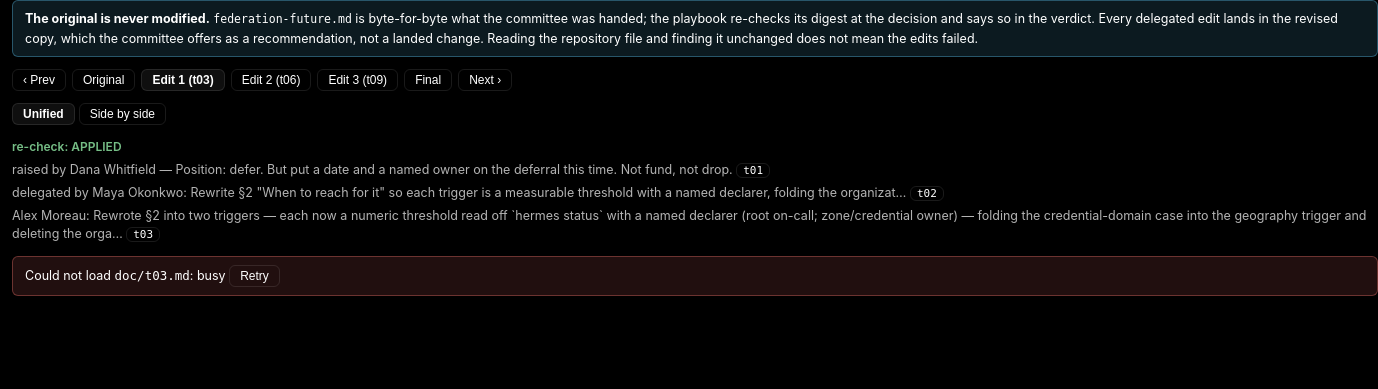
Test: DocumentHistory › retries a failed version on request, rather than until a reload
Click the button with test id "doc-retry": (254, 276) [229, 265, 280, 287]
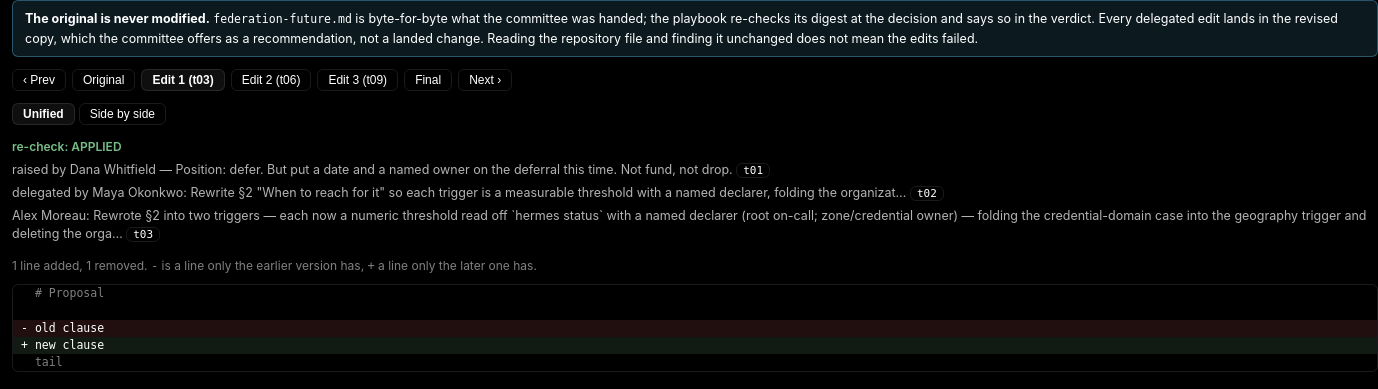
Result: the element with test id "diff-rows" shows "+ new clause" at [12, 284, 1377, 372]
